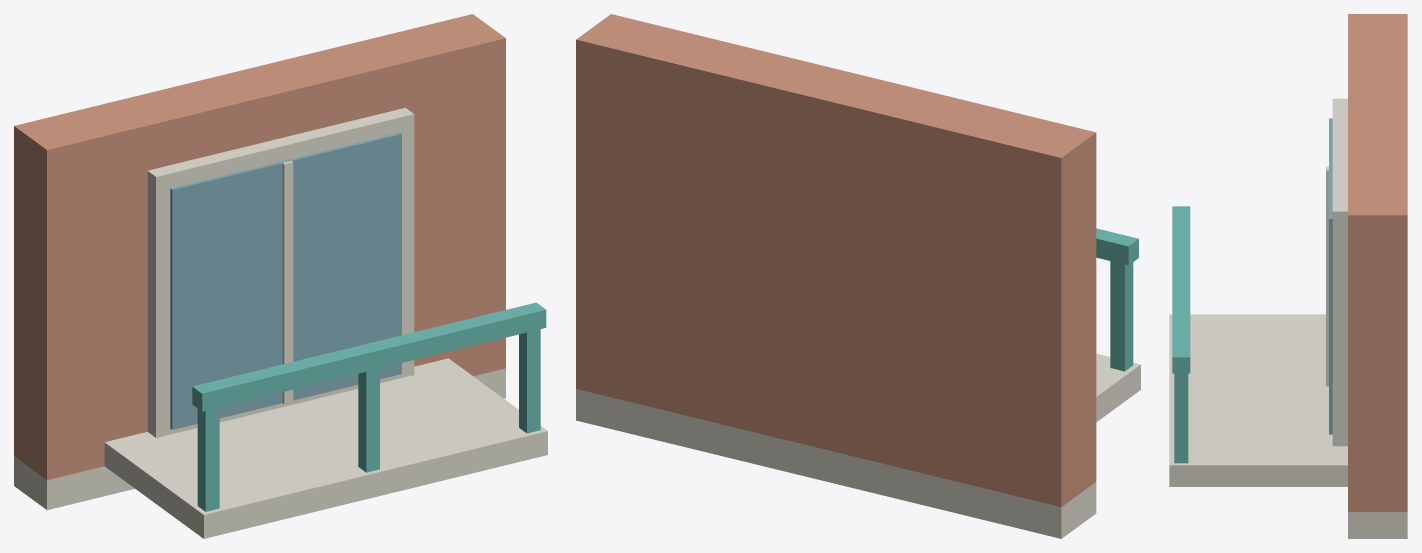
The model's file is voxel-city-districts-balcony-bay-4ff2aeb1__24805.glb.
3 views of the same model, side by side, from view 1: azimuth 30°, elevation 25°; view 2: azimuth 150°, elevation 25°; view 3: azimuth 270°, elevation 25° (orthographic). The views are drawn at different scales.
Parts seen in each view (by area): view 1: balcony-bay-brick, balcony-bay-concrete, balcony-bay-glass, balcony-bay-accent; view 2: balcony-bay-brick, balcony-bay-concrete, balcony-bay-accent; view 3: balcony-bay-concrete, balcony-bay-brick, balcony-bay-accent, balcony-bay-glass.
Boxes of the visible parts, x1,y1,x2,y2 form: balcony-bay-brick: (14,14,505,480); balcony-bay-concrete: (14,108,547,538); balcony-bay-glass: (170,132,401,429); balcony-bay-accent: (192,302,546,511); balcony-bay-brick: (576,14,1096,507); balcony-bay-concrete: (576,353,1140,538); balcony-bay-accent: (1096,228,1138,371); balcony-bay-concrete: (1169,98,1407,538); balcony-bay-brick: (1348,14,1407,511); balcony-bay-accent: (1172,206,1190,463); balcony-bay-glass: (1329,118,1332,434).
Bounding box in the file's own units: 4 × 3 × 2.
